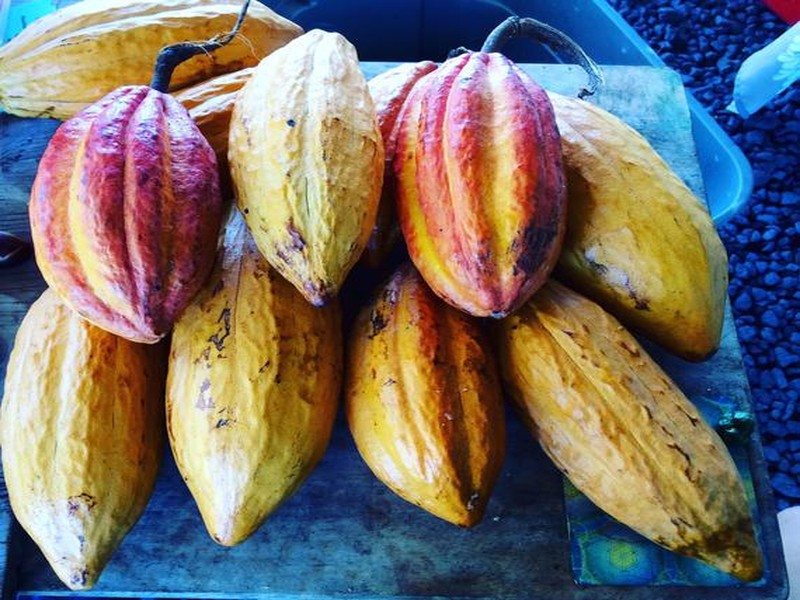Cacaopod: (28, 90, 223, 341), (394, 53, 566, 317), (230, 26, 384, 304)
